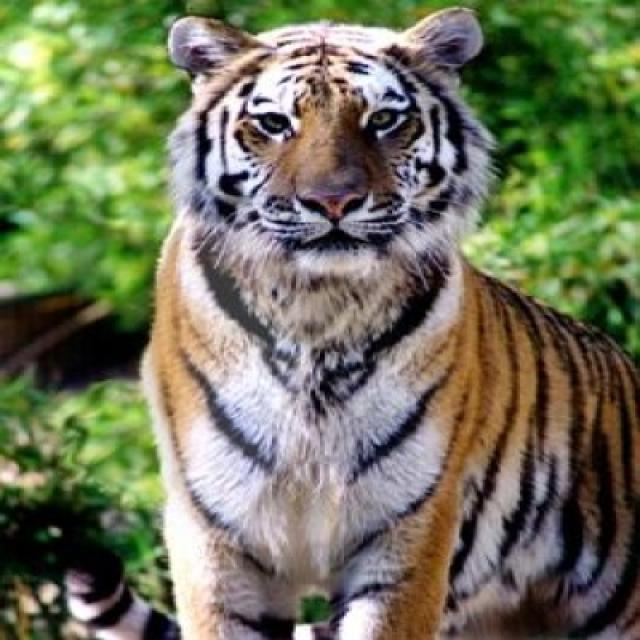Tiger: (141, 8, 638, 638)
